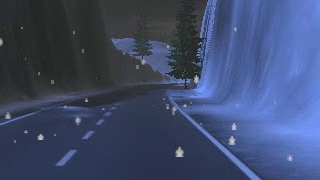Lane: (0, 83, 257, 179)
